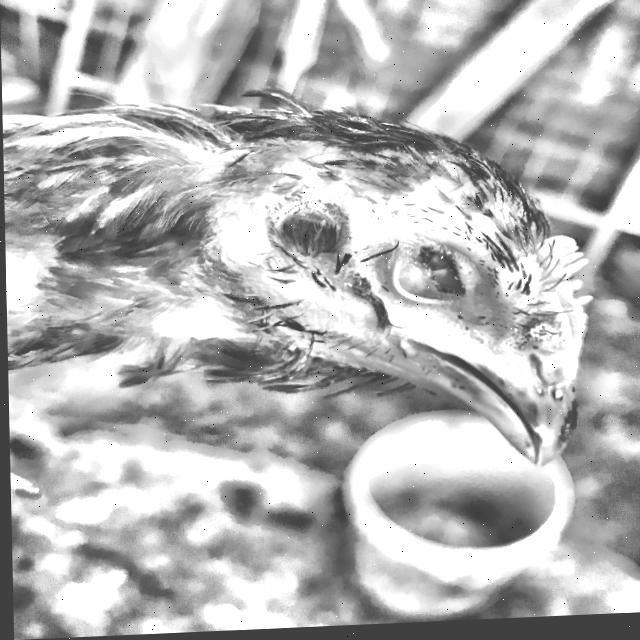Coryza: (155, 86, 635, 542)
